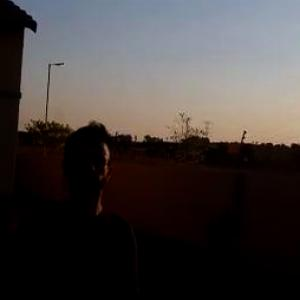follow: (0, 120, 148, 299)
